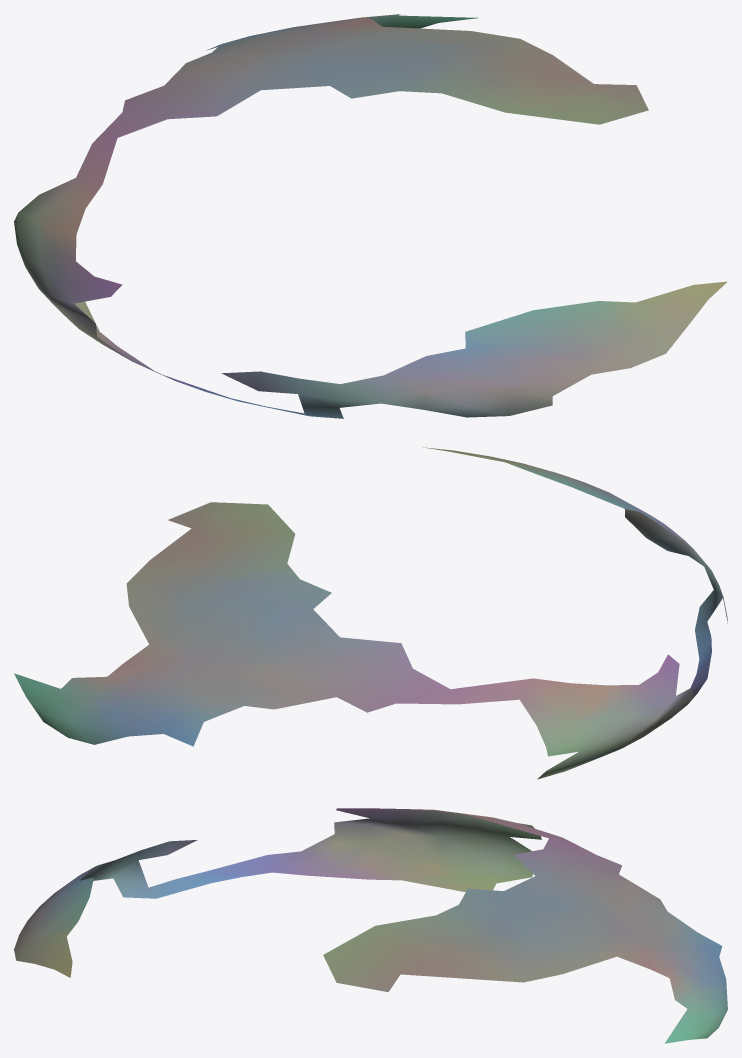
Rendered from space-nebulae-nebula_v42.fbx.
The picture shows the model from 3 angles, top to bottom: view 1: azimuth 30°, elevation 25°; view 2: azimuth 150°, elevation 25°; view 3: azimuth 270°, elevation 25°; orthographic projection. The views are drawn at different scales.
Parts seen in each view (by area): view 1: Nebula_v42; view 2: Nebula_v42; view 3: Nebula_v42.
Boxes of the visible parts, left/top/right/bottom form: Nebula_v42: left=14, top=14, right=727, bottom=418; Nebula_v42: left=14, top=447, right=727, bottom=779; Nebula_v42: left=14, top=808, right=727, bottom=1043.
Bounding box in the file's own units: 0.3932 × 0.0894 × 0.5.
